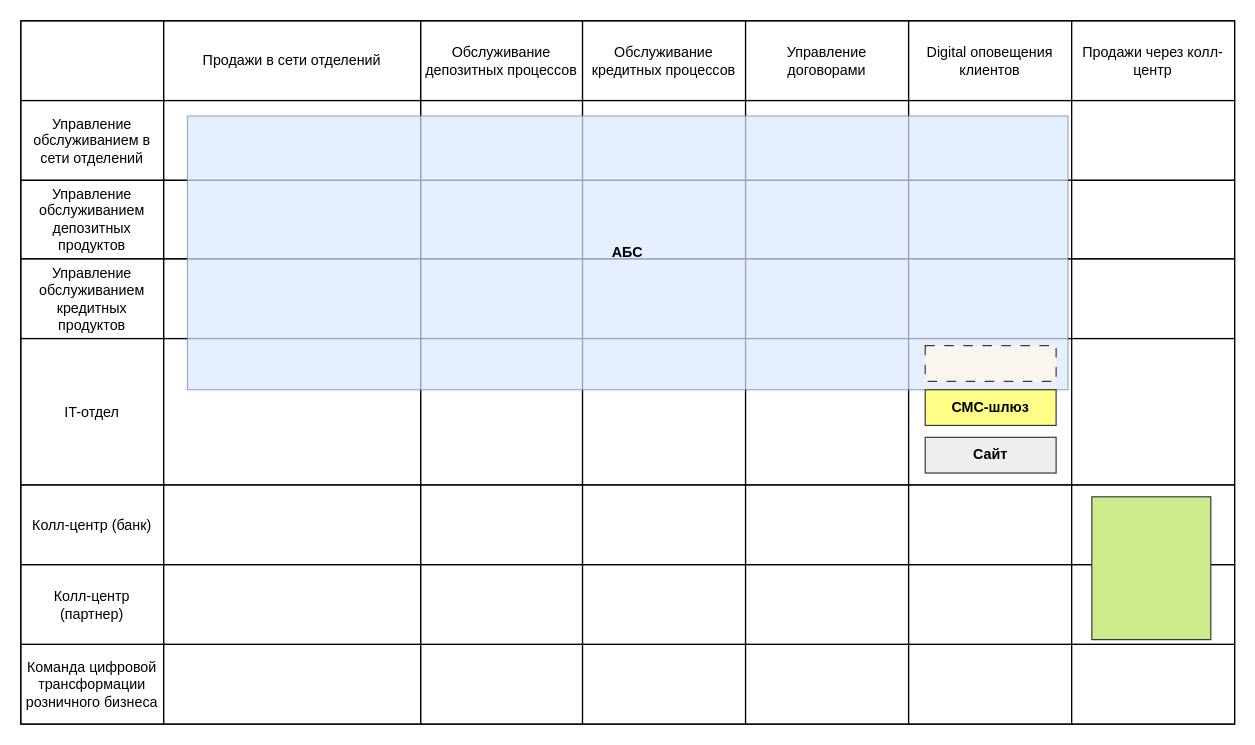
Image size: 1255x745. Some labels were removed from this diagram. Each missing label, with the centre of its shape:
"Интернет-банк." belongs at point (990, 363).
"Система кол-центра ." belongs at point (1151, 568).
